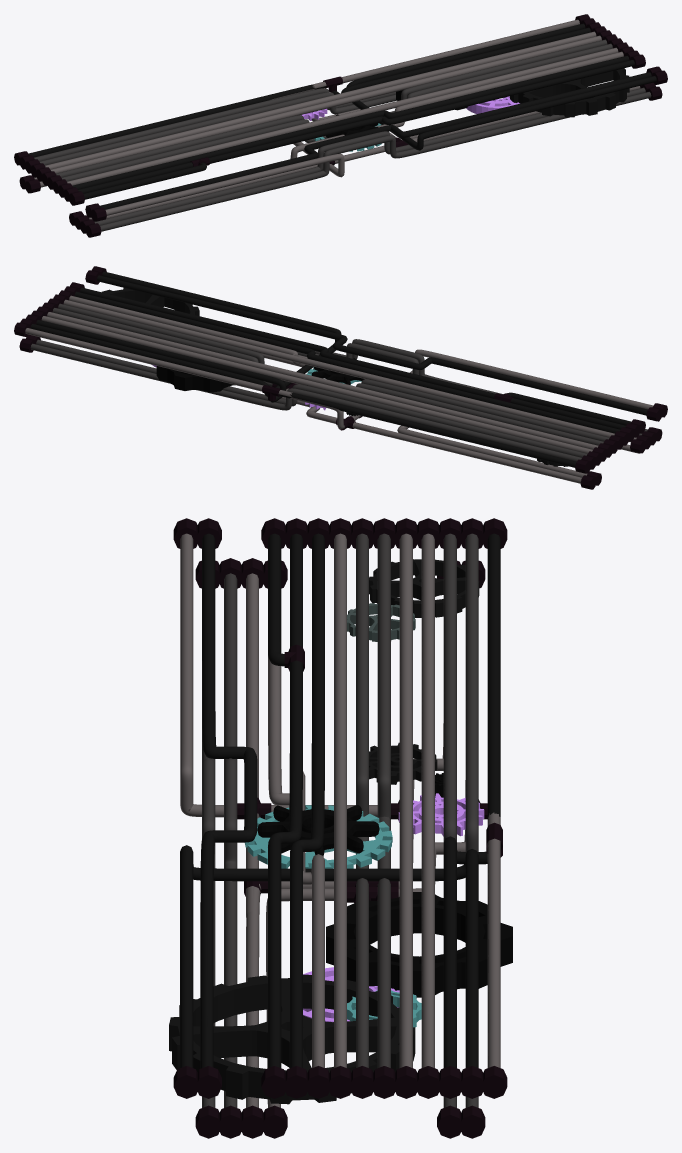
The model's file is st2_rail2.fbx.
3 views of the same model, one above another, from view 1: azimuth 30°, elevation 25°; view 2: azimuth 150°, elevation 25°; view 3: azimuth 270°, elevation 25° (orthographic). The views are drawn at different scales.
Visible parts, largest first — view 1: 2_rail_pipe4, 2_rail_pipe5, 2_rail_pipe1, 2_rail_pipe3, 2_rail_pipe2, 2_rail_pipe_tie1, 2_rail__gear1, 2_rail_pipe_tie2, 2_rail__gear3, 2_rail_pipe_tie5; view 2: 2_rail_pipe4, 2_rail_pipe5, 2_rail_pipe1, 2_rail_pipe3, 2_rail_pipe2, 2_rail_pipe_tie1, 2_rail_pipe_tie2, 2_rail__gear9, 2_rail__gear1, Circle; view 3: 2_rail_pipe4, 2_rail_pipe5, 2_rail_pipe1, 2_rail_pipe3, 2_rail_pipe2, 2_rail_pipe_tie1, 2_rail__gear1, 2_rail__gear9, 2_rail_pipe_tie2, Circle, 2_rail__gear6, 2_rail__gear7 (+4 smaller).
Boxes of the visible parts, x1,y1,x2,y2 form: 2_rail_pipe4: [34, 39, 651, 231]; 2_rail_pipe5: [72, 56, 651, 209]; 2_rail_pipe1: [45, 31, 618, 185]; 2_rail_pipe3: [34, 19, 640, 225]; 2_rail_pipe2: [28, 23, 656, 157]; 2_rail_pipe_tie1: [14, 14, 667, 221]; 2_rail__gear1: [510, 68, 629, 117]; 2_rail_pipe_tie2: [19, 82, 662, 237]; 2_rail__gear3: [466, 96, 519, 113]; 2_rail_pipe_tie5: [190, 76, 407, 166]; 2_rail_pipe4: [30, 303, 647, 461]; 2_rail_pipe5: [74, 275, 647, 433]; 2_rail_pipe1: [41, 299, 614, 453]; 2_rail_pipe3: [25, 295, 653, 483]; 2_rail_pipe2: [30, 271, 576, 467]; 2_rail_pipe_tie1: [14, 266, 667, 473]; 2_rail_pipe_tie2: [19, 334, 662, 489]; 2_rail__gear9: [156, 366, 235, 392]; 2_rail__gear1: [102, 288, 199, 315]; Circle: [311, 358, 364, 384]; 2_rail_pipe4: [202, 533, 478, 1107]; 2_rail_pipe5: [200, 533, 324, 1068]; 2_rail_pipe1: [334, 533, 434, 1067]; 2_rail_pipe3: [180, 533, 500, 1107]; 2_rail_pipe2: [180, 533, 500, 1067]; 2_rail_pipe_tie1: [173, 518, 507, 1098]; 2_rail__gear1: [169, 974, 415, 1104]; 2_rail__gear9: [326, 892, 512, 997]; 2_rail_pipe_tie2: [195, 558, 485, 1138]; Circle: [257, 805, 379, 856]; 2_rail__gear6: [245, 805, 392, 868]; 2_rail__gear7: [369, 559, 479, 617].
Bounding box in the file's own units: 3000 × 165 × 783.
